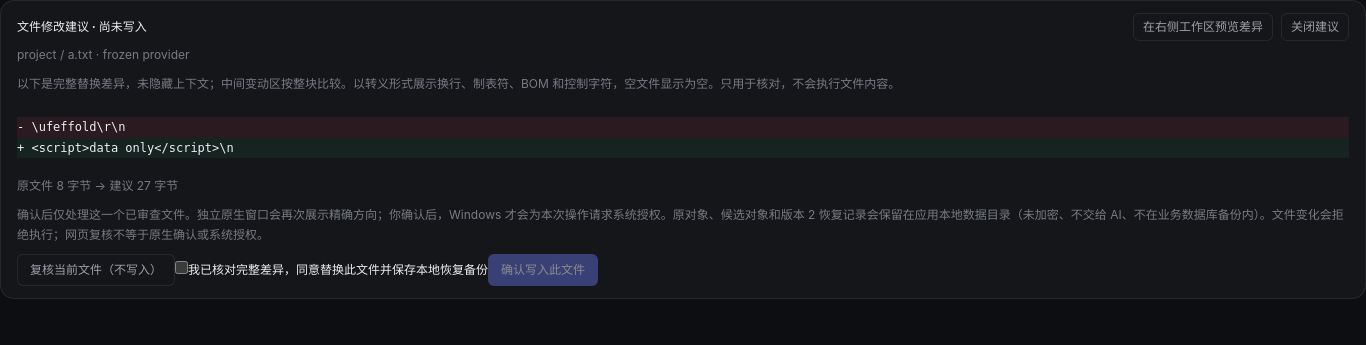
Test: requests cancellation for the exact in-flight proposal without closing it
Click the checkbox labelled "我已核对完整差异，同意替换此文件并保存本地恢复备份": x=182, y=267 [175,261,188,274]
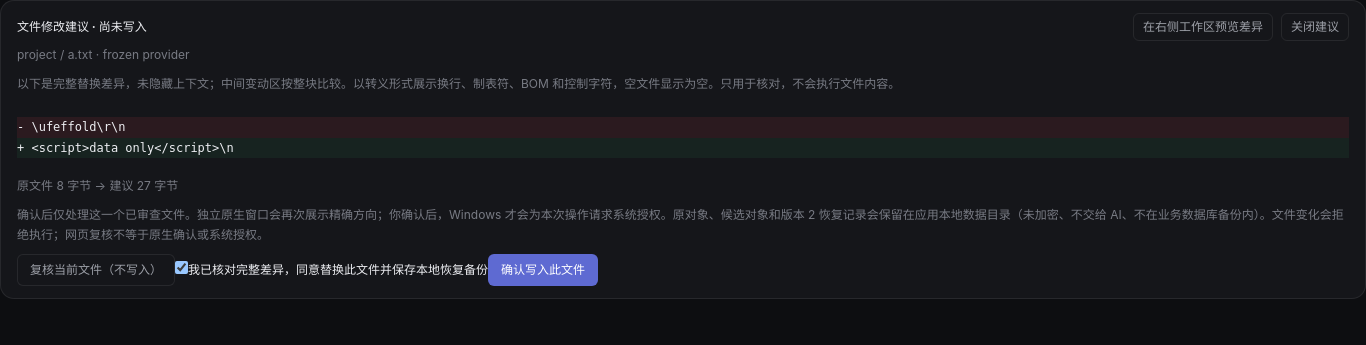
Click the button "确认写入此文件": x=543, y=270 [488,254,598,286]
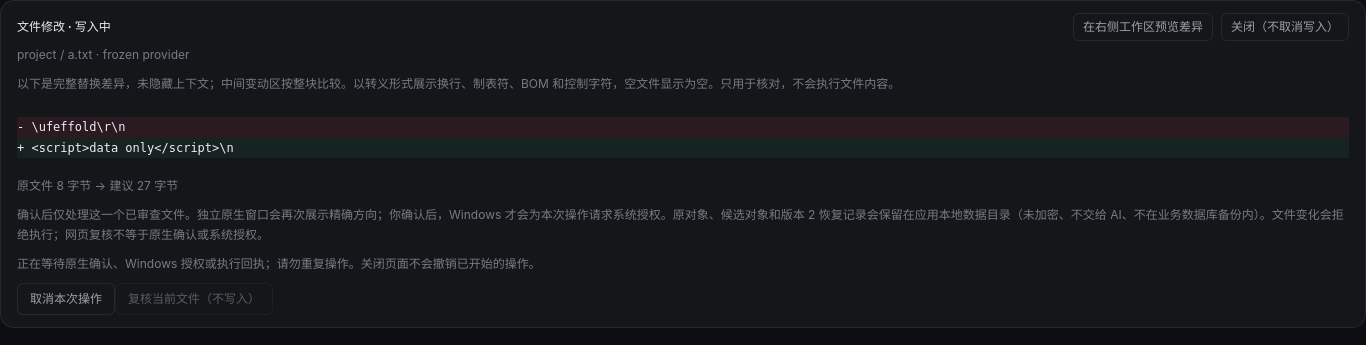
Click the button "取消本次操作": x=66, y=299 [17,283,115,315]
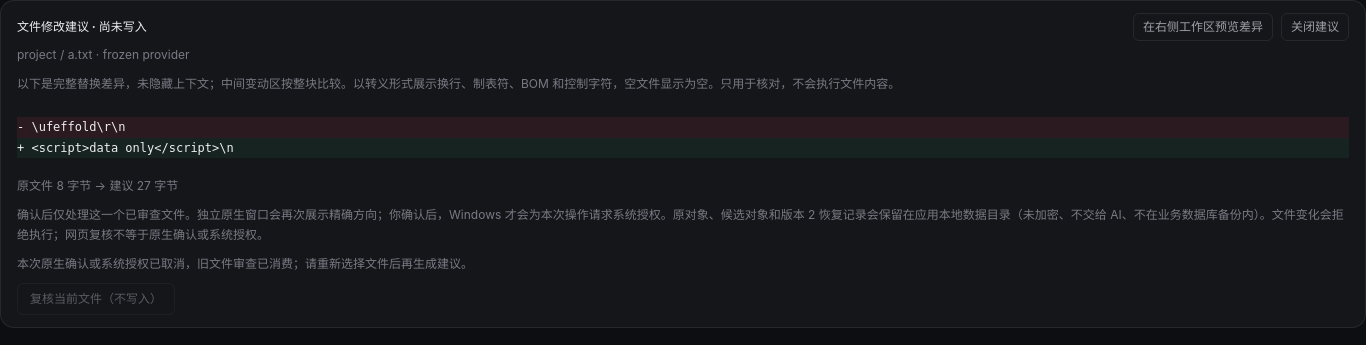
Expected: the text "本次原生确认或系统授权已取消，旧文件审查已消费；请重新选择文件后再生成建议。" is shown, [17,256,473,271]
